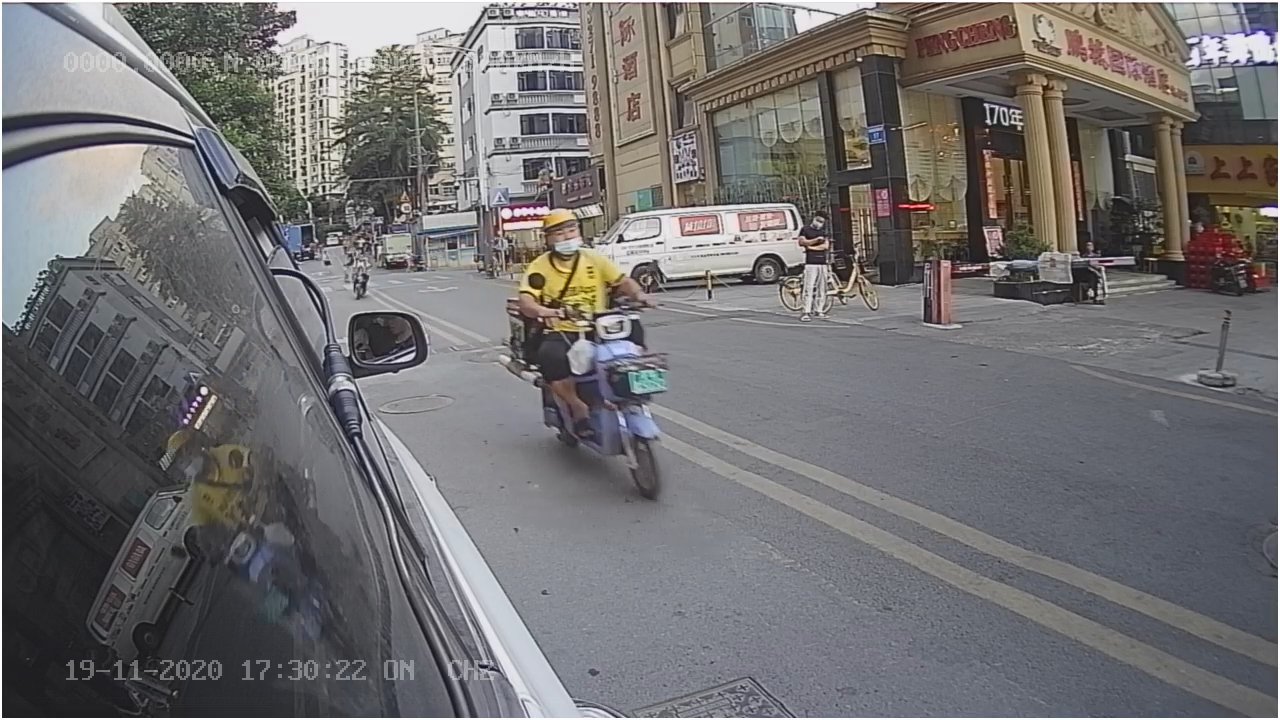person: (509, 205, 642, 315)
